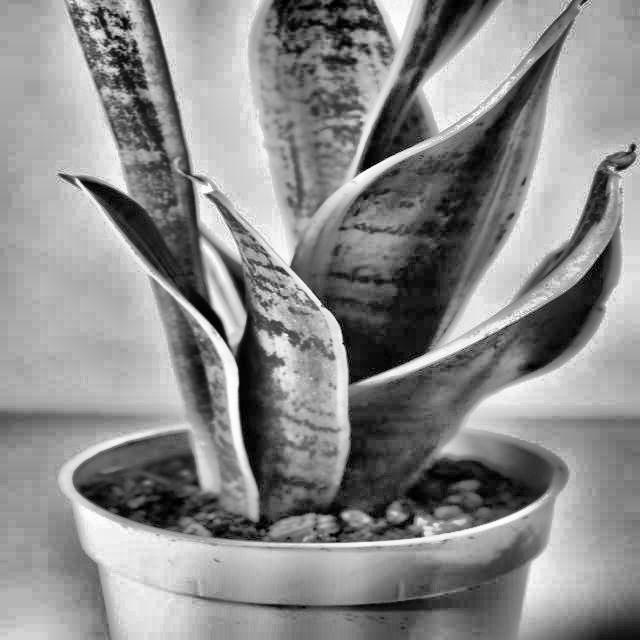plants: (118, 0, 480, 454)
